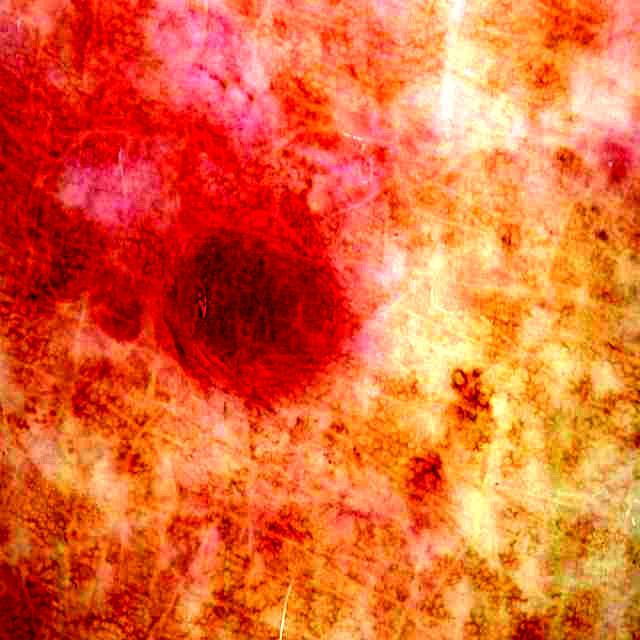VASC: (165, 232, 332, 380)
